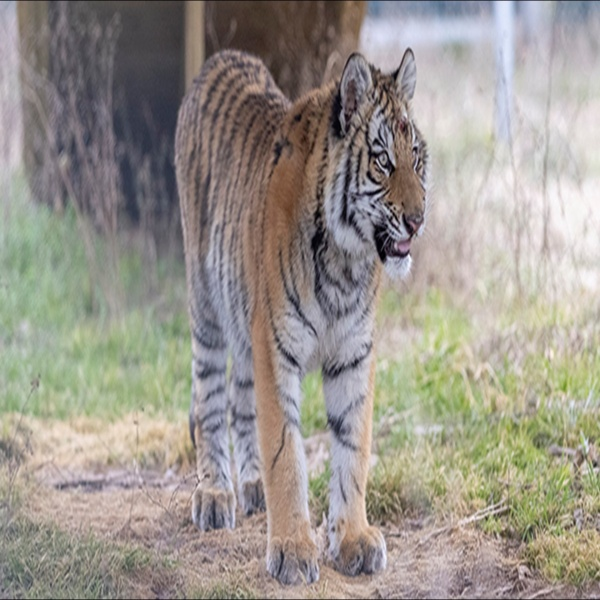Tiger: (169, 42, 437, 585)
